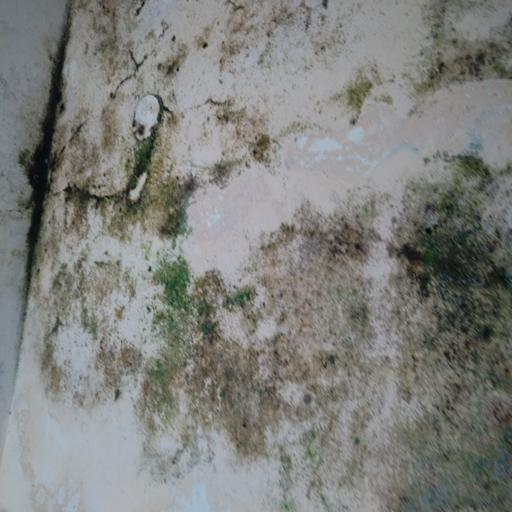algae: (13, 9, 512, 511)
